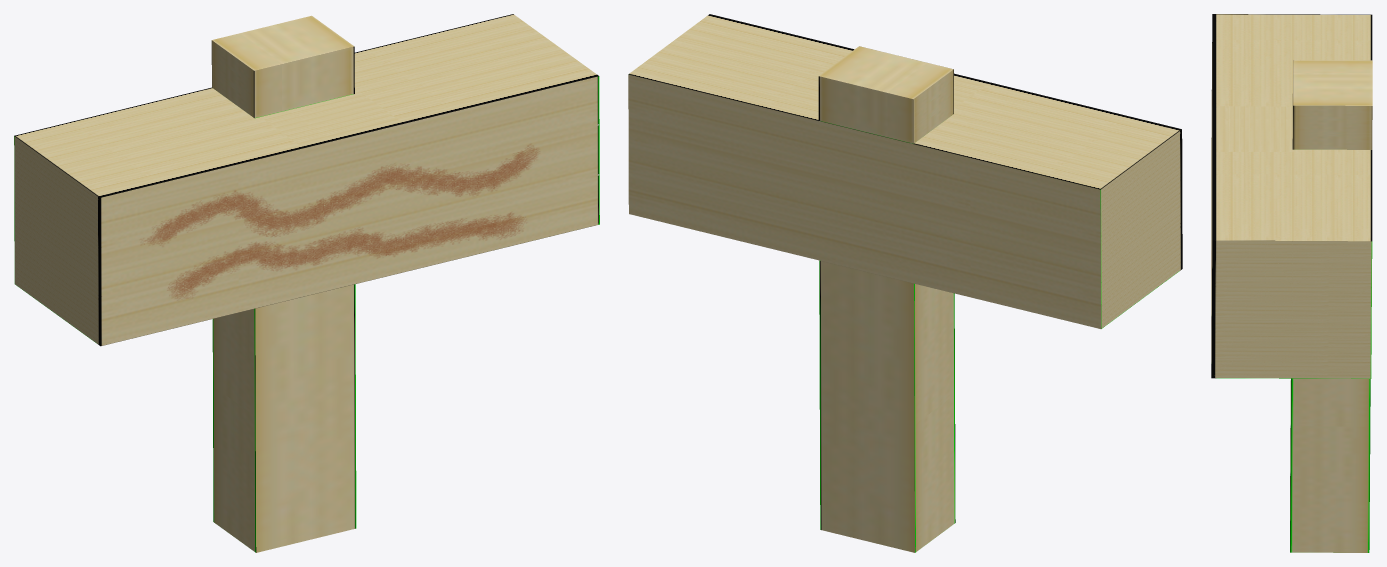
The model's file is Kanban_03.FBX.
3 renders of one model, left to right at view 1: azimuth 30°, elevation 25°; view 2: azimuth 150°, elevation 25°; view 3: azimuth 270°, elevation 25°, orthographic. The views are drawn at different scales.
Visible parts, largest first — view 1: Box008; view 2: Box008; view 3: Box008.
Part boxes in pixels (box(x1,y1,x2,y2)): Box008: box(14, 14, 599, 552); Box008: box(628, 14, 1182, 552); Box008: box(1211, 14, 1372, 552).
Bounding box in the file's own units: 71.78 × 66.1 × 21.58.
Materials: 1 (1 with a texture image).
